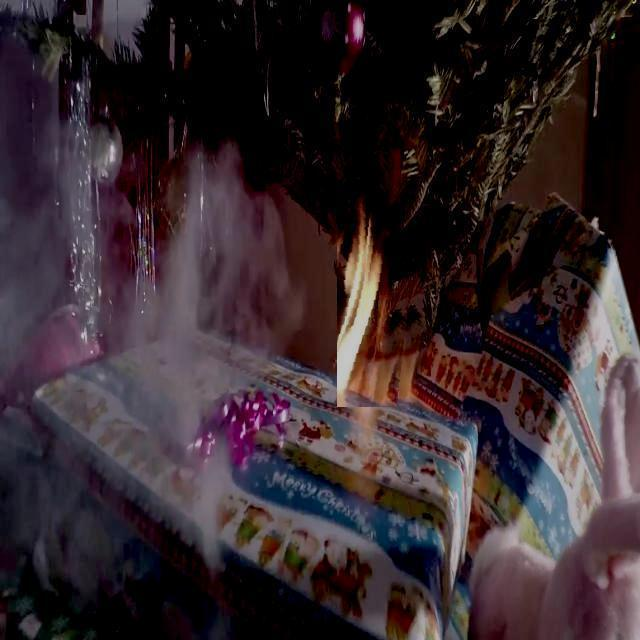fire: (134, 146, 308, 422), (0, 46, 85, 396), (187, 431, 238, 580)
smoke: (337, 200, 388, 407)
